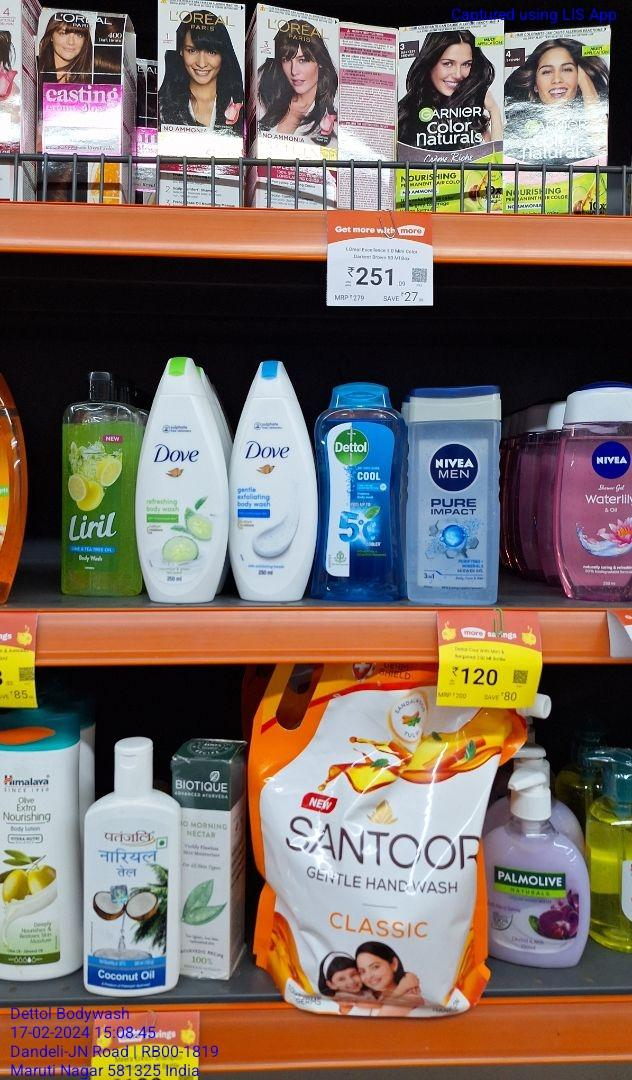Dettol_Bodywash_Cool: (316, 384, 400, 607)
Dove_Gentle_Exfoliating_Body_Wash_250ML: (232, 357, 311, 608)
Dove_Refreshing_Body_Wash_250ML: (142, 358, 228, 603)
Liril_Lime_and_Tea_Tree_Oil_Body_Wash_250ML: (61, 370, 139, 600)
